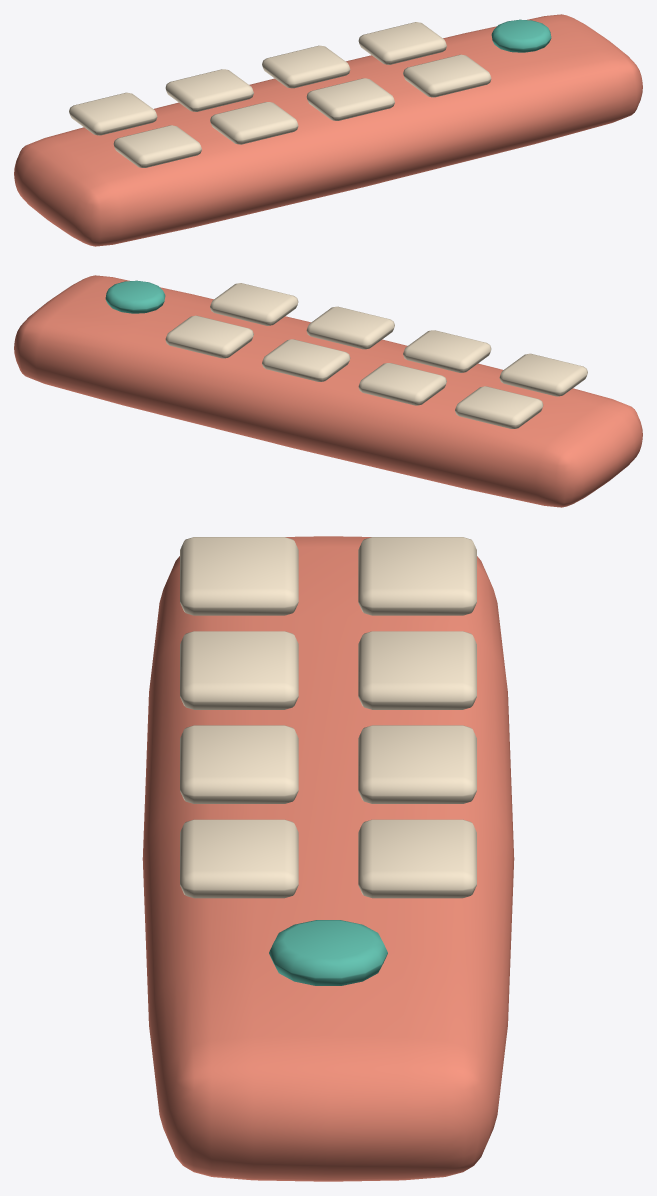
Rendered from remote_b.glb.
3 renders of one model, top to bottom at view 1: azimuth 30°, elevation 25°; view 2: azimuth 150°, elevation 25°; view 3: azimuth 270°, elevation 25°, orthographic. The views are drawn at different scales.
Visible parts, largest first — view 1: body; view 2: body; view 3: body.
Boxes of the visible parts, x1,y1,x2,y2 form: body: (14, 14, 642, 246); body: (14, 275, 642, 507); body: (142, 536, 514, 1181).
Bounding box in the file's own units: 0.18 × 0.028 × 0.05.
